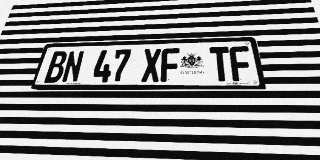4: (92, 50, 114, 82)
7: (110, 49, 131, 82)
B: (44, 51, 68, 83)
F: (229, 46, 254, 81), (161, 48, 180, 82)
N: (61, 51, 85, 83)
T: (209, 47, 232, 81)
X: (141, 48, 161, 82)
